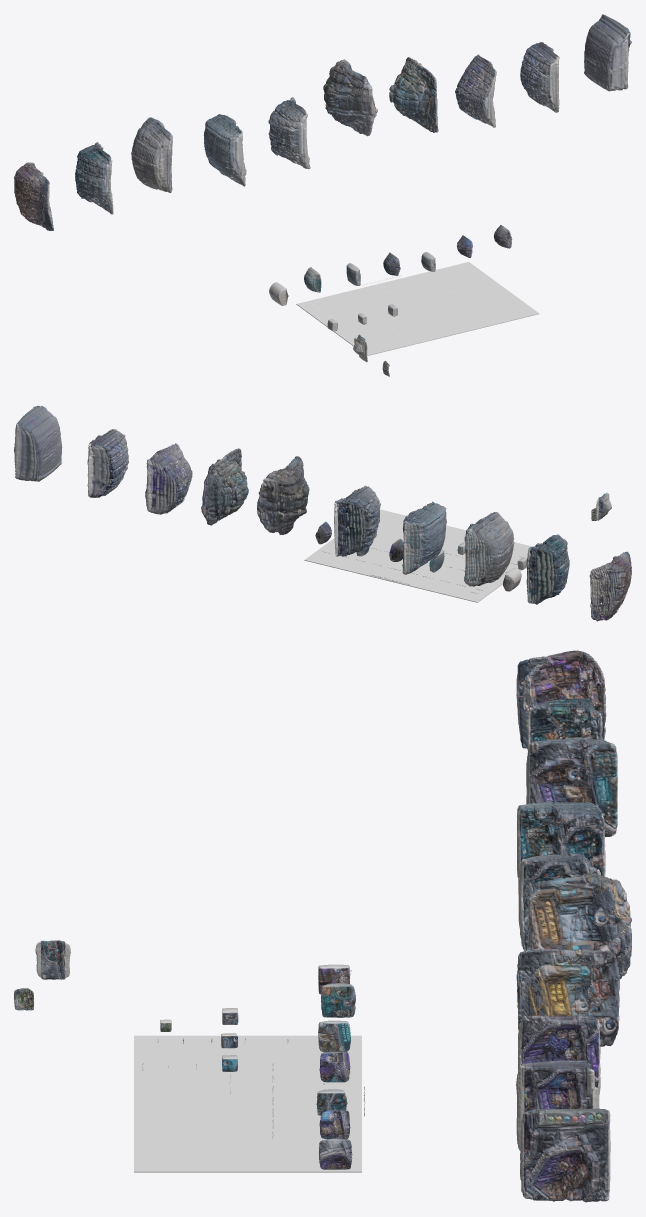
File: lunar-city-generated-assets-board.glb
The picture shows the model from 3 angles, top to bottom: view 1: azimuth 30°, elevation 25°; view 2: azimuth 150°, elevation 25°; view 3: azimuth 270°, elevation 25°; orthographic projection. The views are drawn at different scales.
Visible parts, largest first — view 1: lunar_city_generated_asset_review_floor, building-archive_geometry_0, building-release-gatehouse_geometry_0, building-triage-clinic_geometry_0, building-arts-studio_geometry_0, building-engineering_geometry_0, building-operations-depot_geometry_0, building-review-office_geometry_0, building-council-hall_geometry_0, building-research-lab_geometry_0, building-library_geometry_0; view 2: lunar_city_generated_asset_review_floor, building-archive_geometry_0, building-arts-studio_geometry_0, building-release-gatehouse_geometry_0, building-operations-depot_geometry_0, building-council-hall_geometry_0, building-triage-clinic_geometry_0, building-engineering_geometry_0, building-research-lab_geometry_0, building-review-office_geometry_0, building-library_geometry_0, leader-owl-archivist_geometry_0 (+1 smaller); view 3: lunar_city_generated_asset_review_floor, building-archive_geometry_0, building-release-gatehouse_geometry_0, building-triage-clinic_geometry_0, building-arts-studio_geometry_0, building-engineering_geometry_0, building-library_geometry_0, building-review-office_geometry_0, building-council-hall_geometry_0, building-research-lab_geometry_0, building-operations-depot_geometry_0, vehicle-bus_geometry_0 (+5 smaller).
Boxes of the visible parts, <box> form: lunar_city_generated_asset_review_floor: <box>296,262,539,355</box>; building-archive_geometry_0: <box>584,14,631,91</box>; building-release-gatehouse_geometry_0: <box>323,59,377,136</box>; building-triage-clinic_geometry_0: <box>389,57,438,132</box>; building-arts-studio_geometry_0: <box>131,117,172,192</box>; building-engineering_geometry_0: <box>203,114,246,186</box>; building-operations-depot_geometry_0: <box>268,97,310,169</box>; building-review-office_geometry_0: <box>520,42,559,112</box>; building-council-hall_geometry_0: <box>455,54,496,127</box>; building-research-lab_geometry_0: <box>75,142,113,214</box>; building-library_geometry_0: <box>14,162,53,230</box>; lunar_city_generated_asset_review_floor: <box>304,509,531,602</box>; building-archive_geometry_0: <box>14,405,62,481</box>; building-arts-studio_geometry_0: <box>464,512,514,586</box>; building-release-gatehouse_geometry_0: <box>257,456,309,532</box>; building-operations-depot_geometry_0: <box>334,485,380,556</box>; building-council-hall_geometry_0: <box>145,443,192,514</box>; building-triage-clinic_geometry_0: <box>201,448,248,525</box>; building-engineering_geometry_0: <box>402,501,446,574</box>; building-research-lab_geometry_0: <box>526,534,569,604</box>; building-review-office_geometry_0: <box>87,429,128,497</box>; building-library_geometry_0: <box>589,551,631,621</box>; leader-owl-archivist_geometry_0: <box>503,567,521,591</box>; lunar_city_generated_asset_review_floor: <box>134,1035,361,1172</box>; building-archive_geometry_0: <box>520,1108,610,1202</box>; building-release-gatehouse_geometry_0: <box>528,873,631,979</box>; building-triage-clinic_geometry_0: <box>516,948,619,1046</box>; building-arts-studio_geometry_0: <box>526,737,617,836</box>; building-engineering_geometry_0: <box>517,801,605,882</box>; building-library_geometry_0: <box>516,650,606,748</box>; building-review-office_geometry_0: <box>516,1060,599,1150</box>; building-council-hall_geometry_0: <box>518,1015,600,1097</box>; building-research-lab_geometry_0: <box>526,698,602,750</box>; building-operations-depot_geometry_0: <box>518,853,600,950</box>; vehicle-bus_geometry_0: <box>35,940,70,979</box>.
Size of the model in its own units: 84.02 by 20.98 by 46.08.
